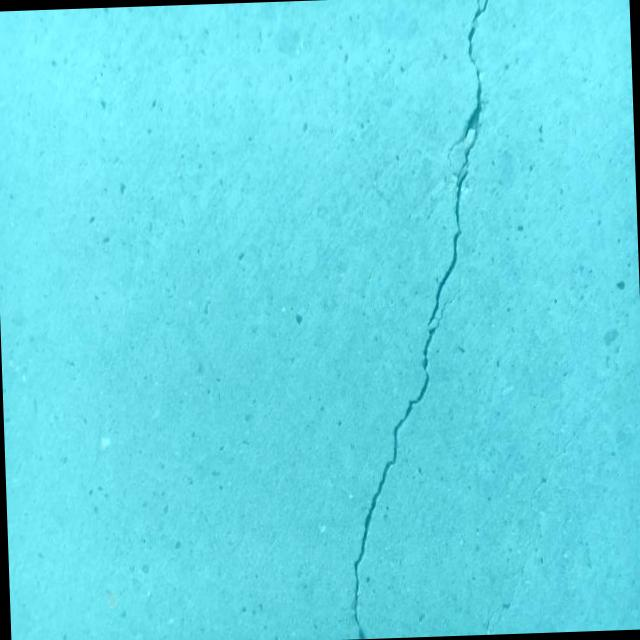crack: (329, 0, 512, 639), (528, 421, 586, 508), (482, 576, 522, 634)
